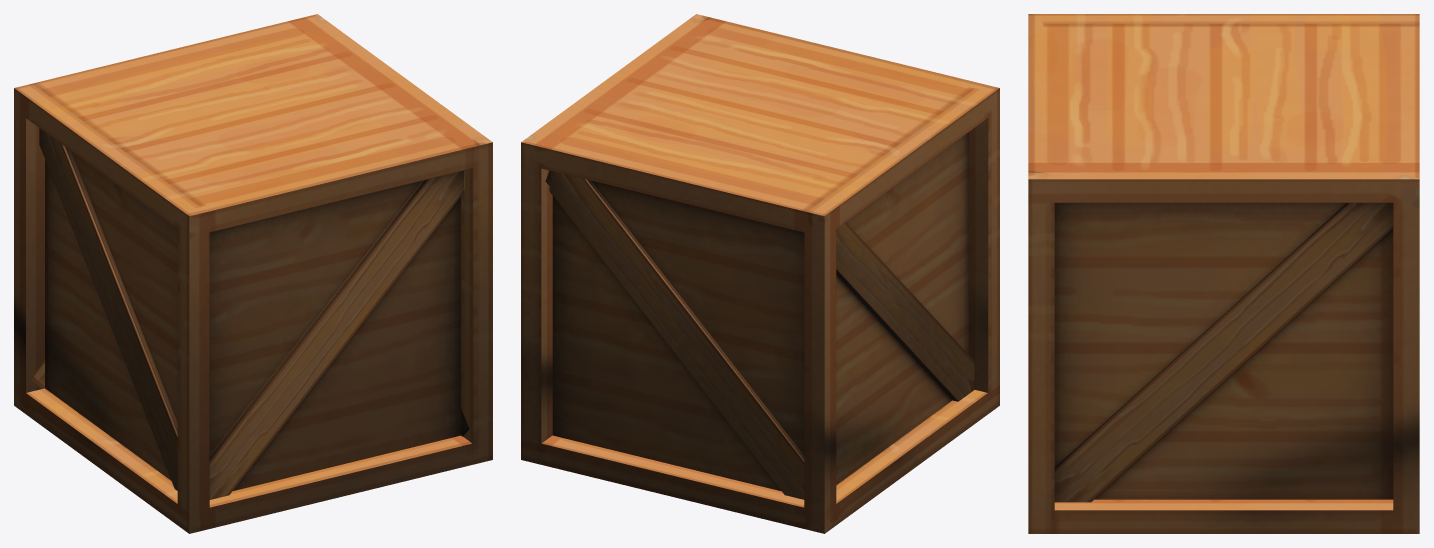
File: crate.FBX
The picture shows the model from 3 angles, left to right: view 1: azimuth 30°, elevation 25°; view 2: azimuth 150°, elevation 25°; view 3: azimuth 270°, elevation 25°; orthographic projection. The views are drawn at different scales.
Visible parts, largest first — view 1: Box802, Plane683, Plane614; view 2: Box802, Plane682, Plane614; view 3: Box802, Plane681.
Part boxes in pixels (x1=…): Box802: x1=14, y1=14, x2=492, y2=533; Plane683: x1=209, y1=170, x2=464, y2=499; Plane614: x1=39, y1=128, x2=177, y2=490; Box802: x1=521, y1=14, x2=999, y2=533; Plane682: x1=549, y1=170, x2=804, y2=499; Plane614: x1=836, y1=222, x2=974, y2=401; Box802: x1=1028, y1=14, x2=1419, y2=533; Plane681: x1=1054, y1=203, x2=1393, y2=502.
Bounding box in the file's own units: 123 × 123 × 123.
